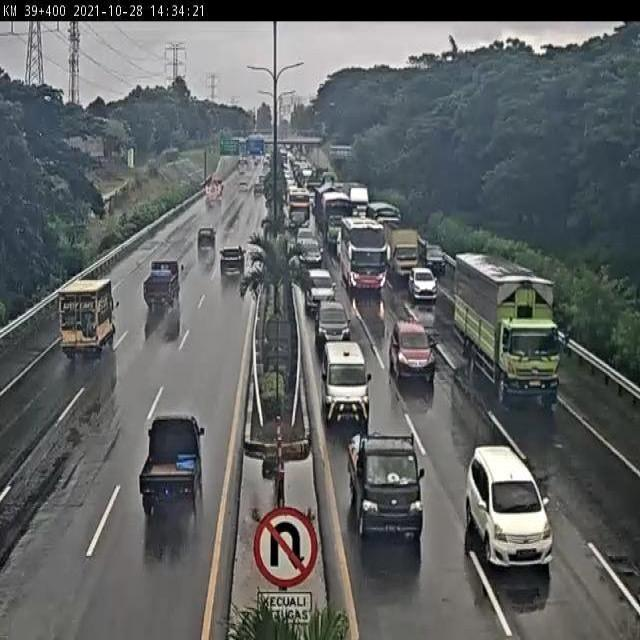big bus: (340, 215, 383, 284), (320, 190, 353, 242), (283, 195, 311, 236)
car: (460, 441, 559, 572), (350, 432, 426, 544), (139, 411, 205, 513), (318, 341, 371, 431), (389, 318, 435, 390), (317, 292, 344, 337), (409, 268, 438, 307), (305, 260, 332, 301), (218, 245, 245, 284), (196, 228, 217, 257), (297, 238, 318, 266), (292, 220, 309, 240)
small truck: (58, 277, 120, 363), (382, 220, 422, 284), (142, 259, 186, 313)
truck-l-: (455, 256, 564, 395)
